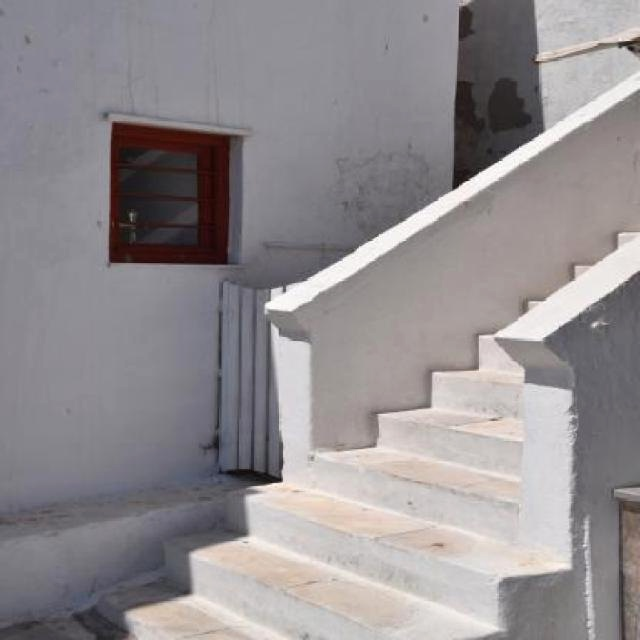stair: (91, 231, 640, 640)
